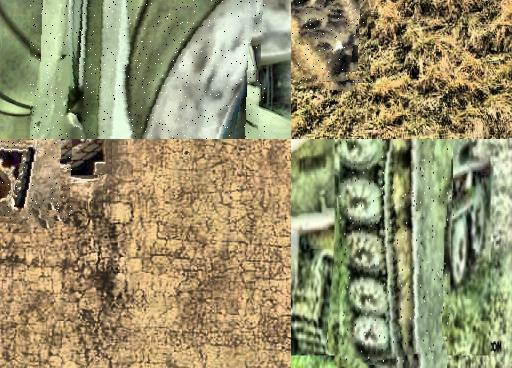tanks: (32, 1, 261, 140), (340, 140, 455, 363), (292, 1, 364, 84), (1, 140, 63, 220)
